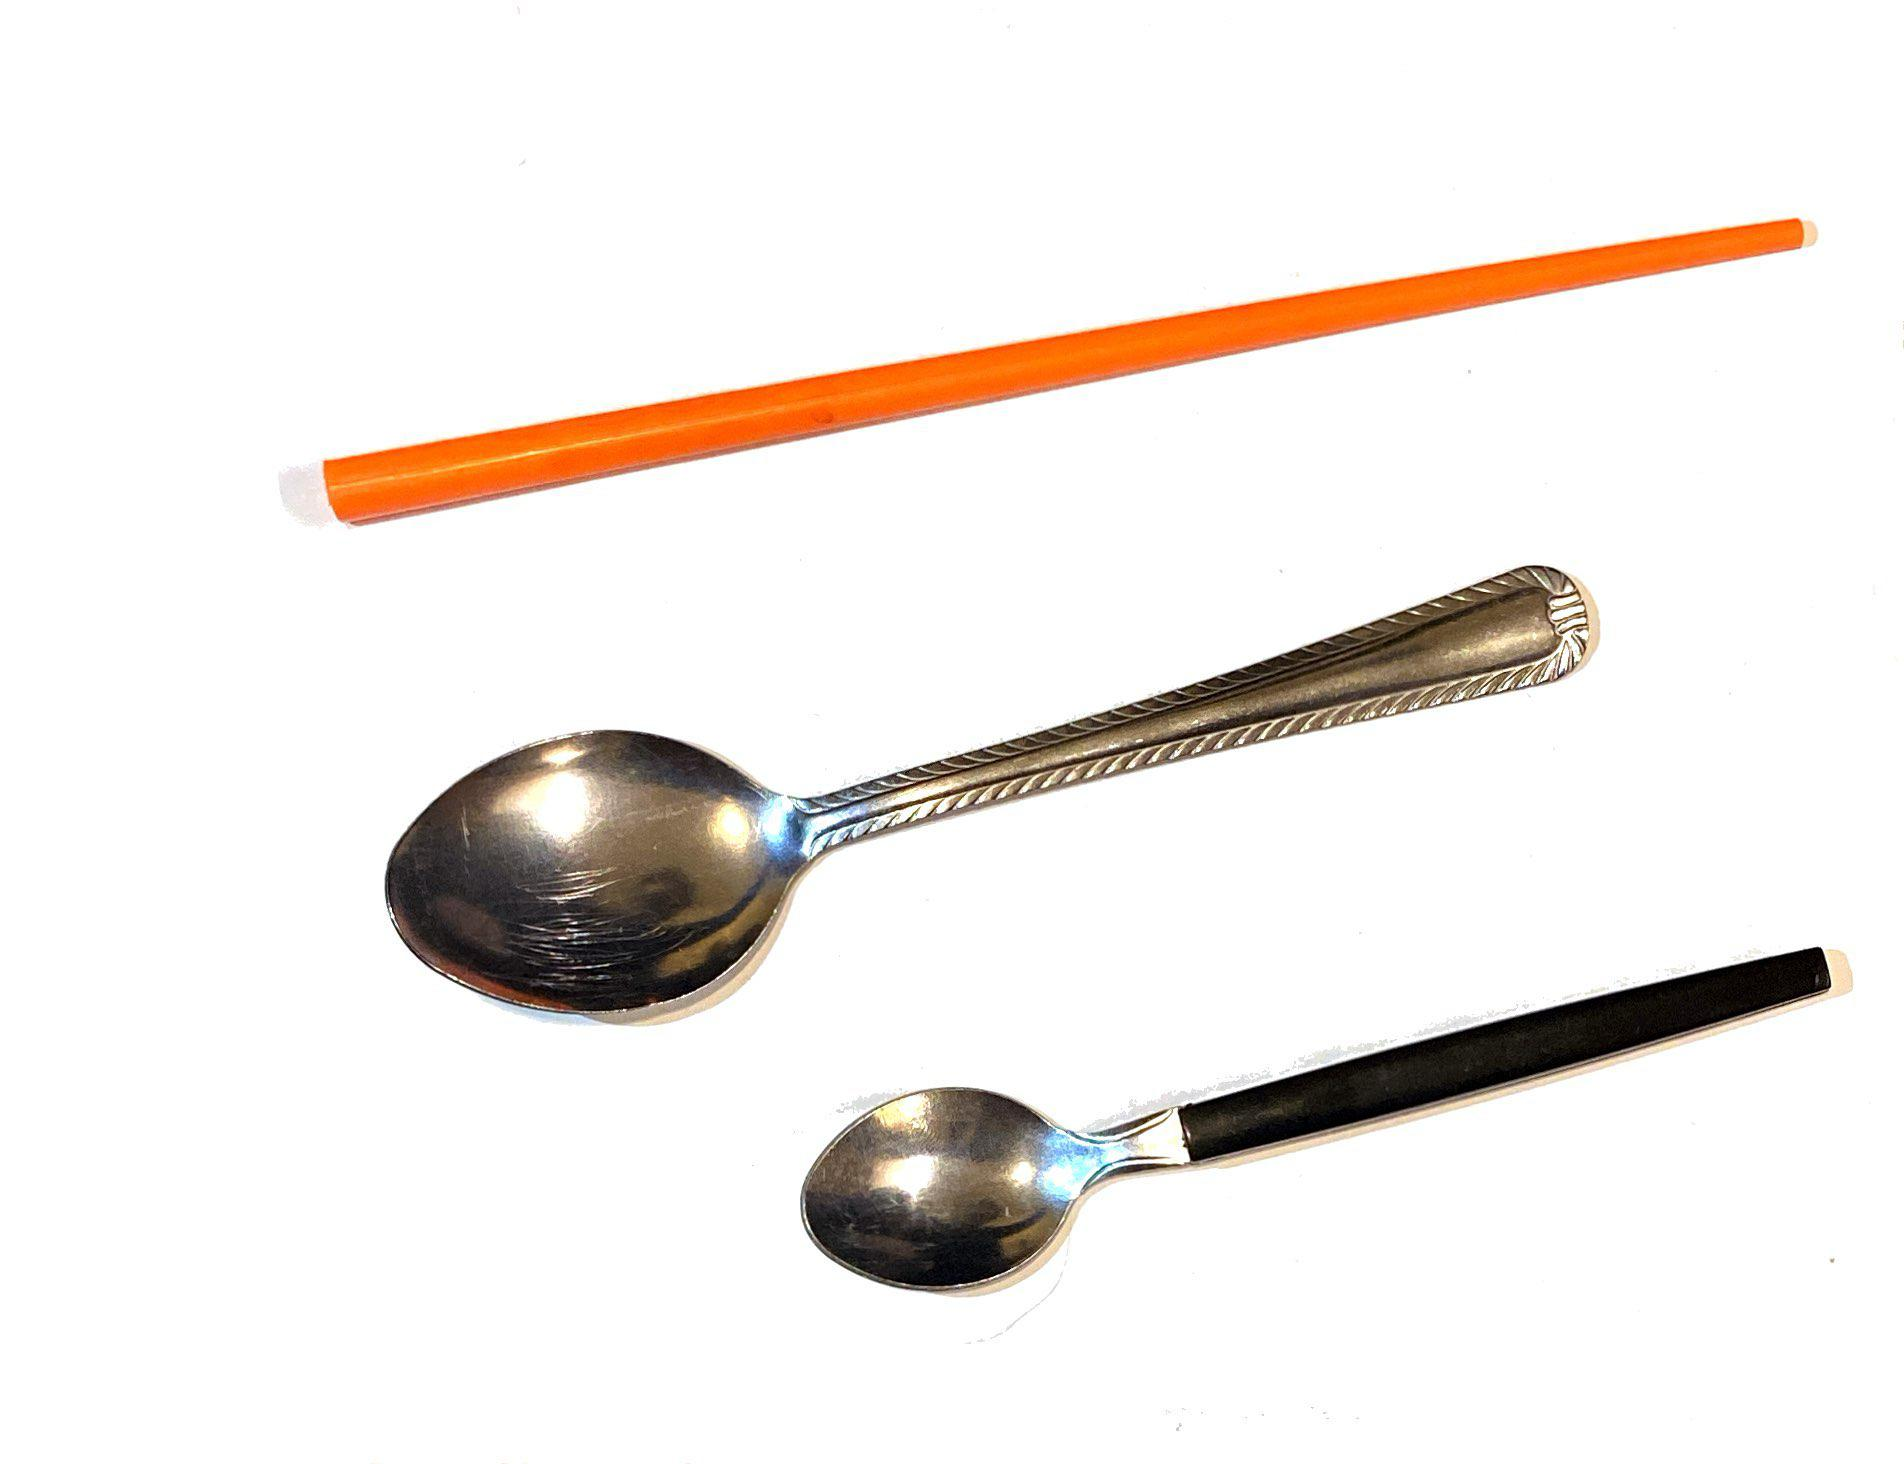Chopstick: (278, 195, 1838, 563)
Spoon: (348, 551, 1616, 1030), (760, 930, 1853, 1372)
